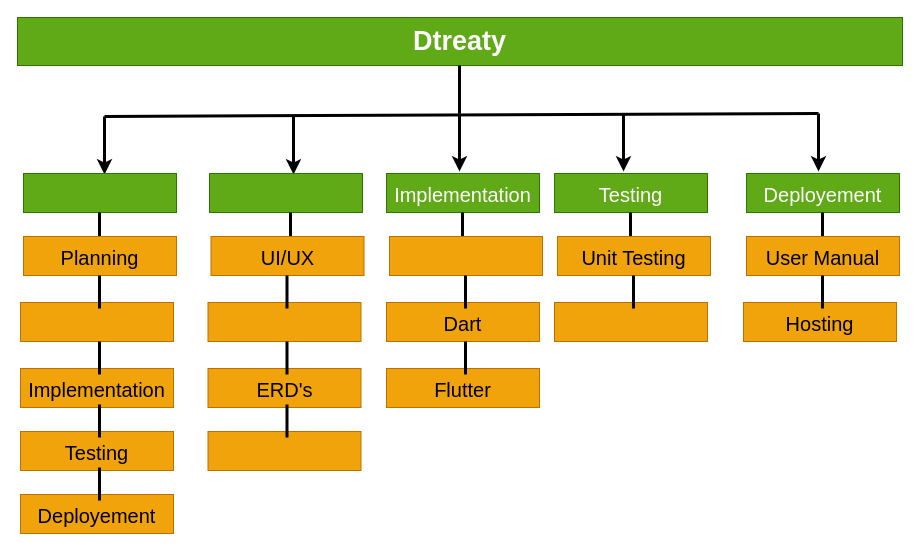
This 920x551 diagram has some shape labels left out. Each missing label, with the box of its shape:
Analyze: (20, 302, 174, 342)
Coding: (388, 236, 542, 276)
Design: (208, 172, 362, 212)
Info gathering: (22, 172, 176, 212)
System Testing: (554, 302, 708, 342)
Use Cases: (207, 430, 361, 470)
UserFlow: (207, 302, 361, 342)
